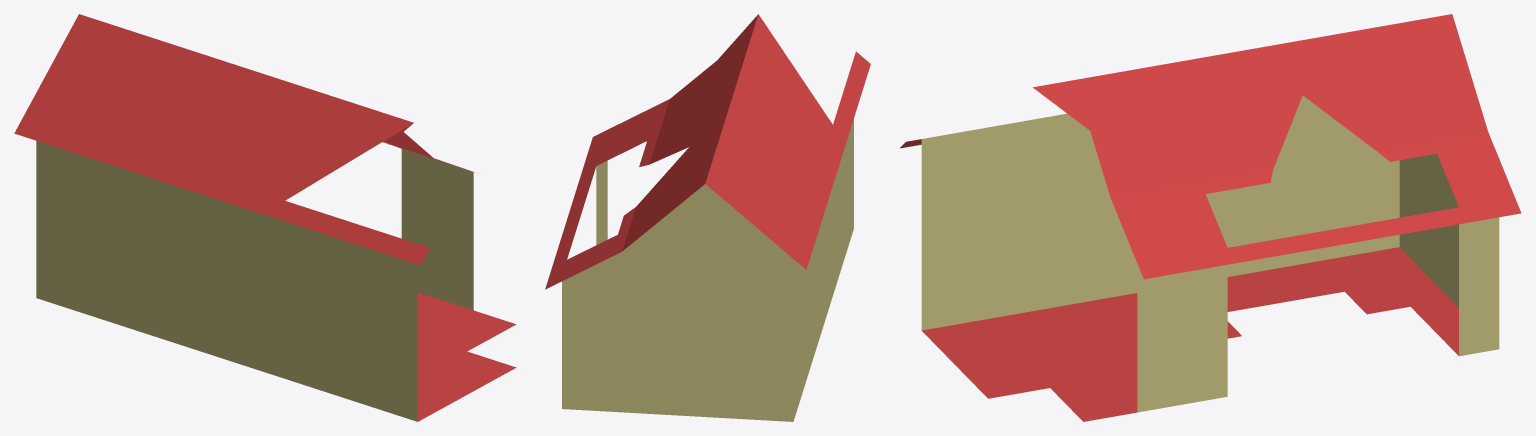
The picture shows the model from 3 angles, left to right: view 1: azimuth 30°, elevation 25°; view 2: azimuth 150°, elevation 25°; view 3: azimuth 270°, elevation 25°; orthographic projection. The views are drawn at different scales.
Size of the model in its own units: 19.36 by 27.63 by 13.15.
